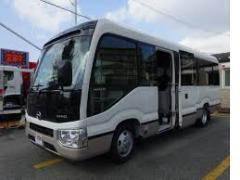bus: (26, 12, 224, 164)
